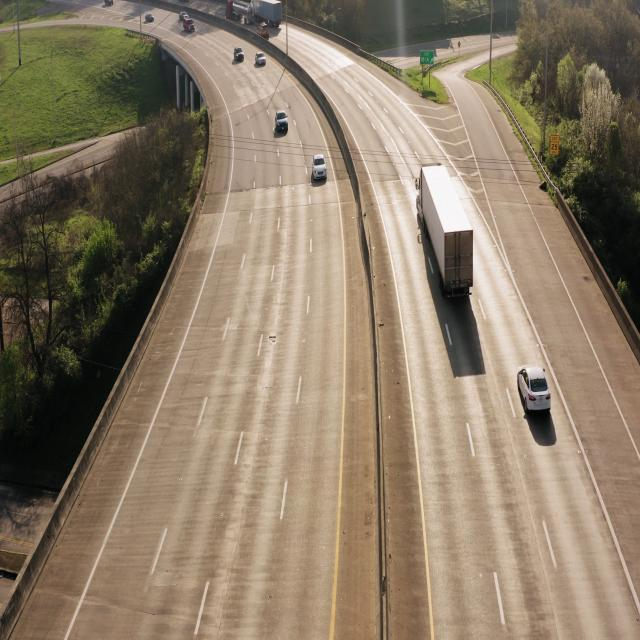Car: (412, 161, 477, 301), (518, 360, 553, 420), (312, 150, 327, 186), (274, 108, 289, 138), (256, 50, 270, 70)
